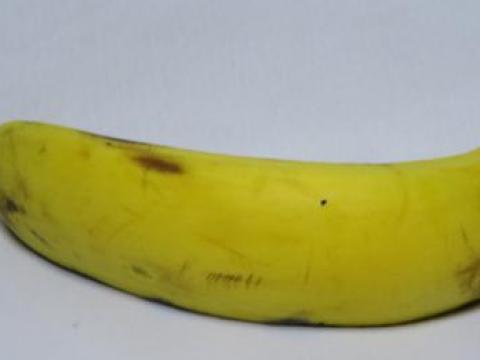freshripe: (0, 96, 479, 346)
